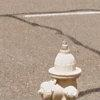Hydrant: (31, 28, 84, 100)
